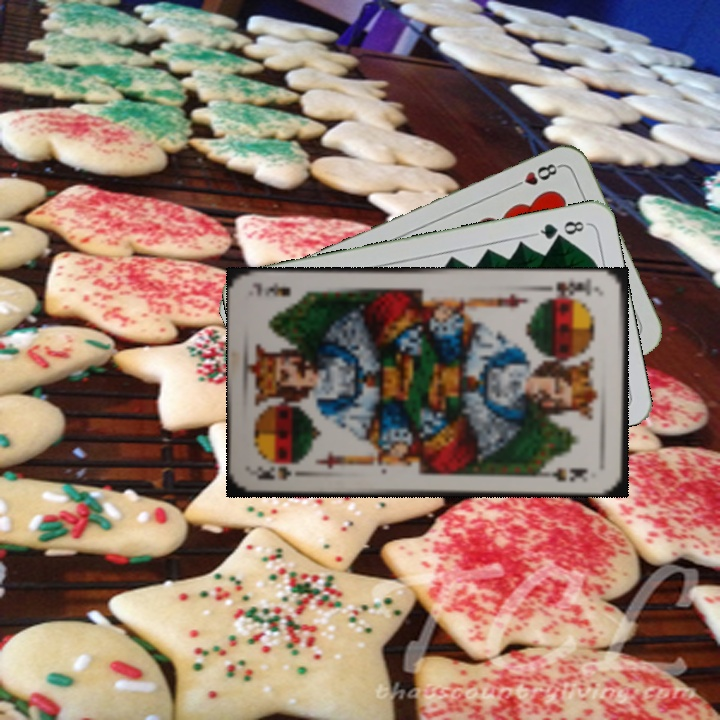G8: (531, 216, 590, 243)
H8: (508, 159, 564, 191)
SK: (542, 275, 601, 302), (252, 462, 294, 483)
